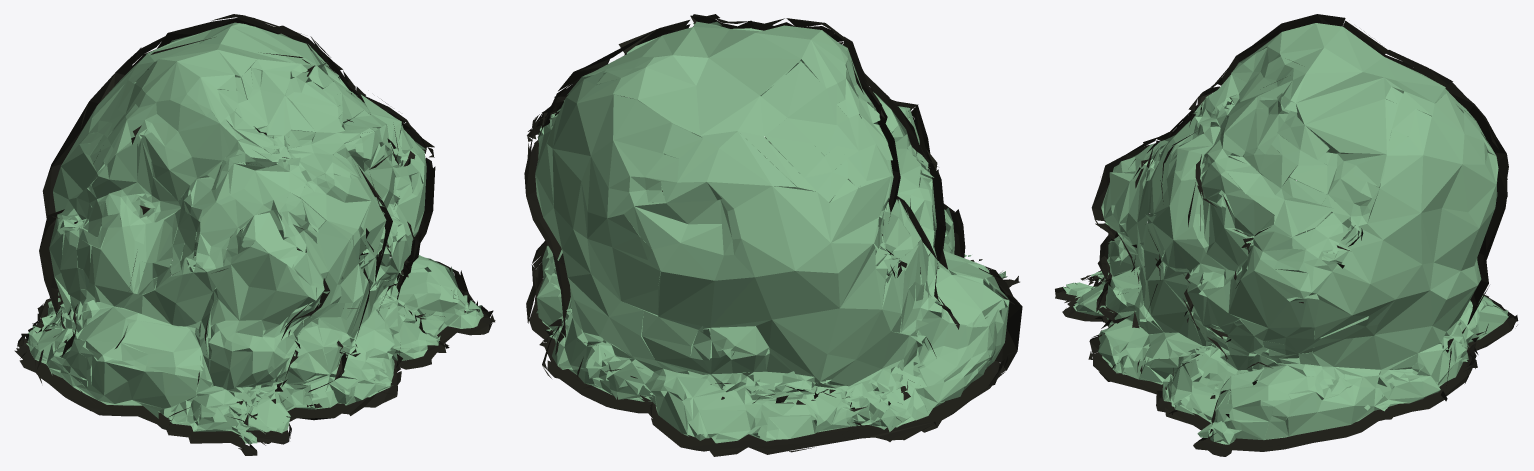
File: df_v2_rock_moss_cluster_d_a.glb
3 views of the same model, side by side, from view 1: azimuth 30°, elevation 25°; view 2: azimuth 150°, elevation 25°; view 3: azimuth 270°, elevation 25° (orthographic). The views are drawn at different scales.
Parts seen in each view (by area): view 1: rock_moss_cluster_d_mesh_01, rock_moss_cluster_d_mesh_01_ink_outline; view 2: rock_moss_cluster_d_mesh_01, rock_moss_cluster_d_mesh_01_ink_outline; view 3: rock_moss_cluster_d_mesh_01, rock_moss_cluster_d_mesh_01_ink_outline.
Boxes of the visible parts, box(x1,y1,x2,y2) form: rock_moss_cluster_d_mesh_01: box(26, 22, 483, 444); rock_moss_cluster_d_mesh_01_ink_outline: box(14, 14, 495, 455); rock_moss_cluster_d_mesh_01: box(535, 21, 1009, 443); rock_moss_cluster_d_mesh_01_ink_outline: box(524, 14, 1022, 456); rock_moss_cluster_d_mesh_01: box(1063, 23, 1508, 444); rock_moss_cluster_d_mesh_01_ink_outline: box(1055, 14, 1518, 456).
Size of the model in its own units: 0.8407 by 0.5894 by 0.8069.
